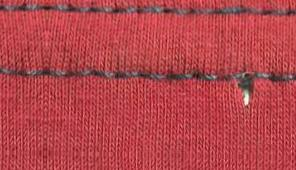hole: (232, 81, 258, 107)
